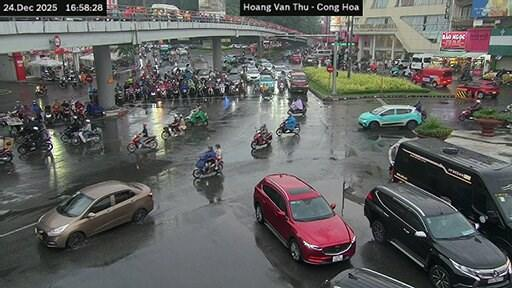motorbike: (13, 126, 50, 143), (192, 161, 223, 178), (16, 138, 51, 153), (127, 134, 156, 152), (70, 130, 101, 144), (160, 122, 184, 139), (252, 129, 272, 148), (185, 108, 207, 125), (275, 120, 298, 134), (60, 126, 76, 142), (457, 107, 473, 120), (44, 108, 54, 126), (288, 106, 306, 116), (0, 148, 12, 162), (259, 89, 272, 99), (458, 72, 472, 81), (61, 107, 70, 121), (179, 82, 188, 95), (499, 103, 511, 112), (42, 71, 54, 80), (35, 85, 45, 95), (278, 81, 284, 93), (57, 78, 66, 86)
